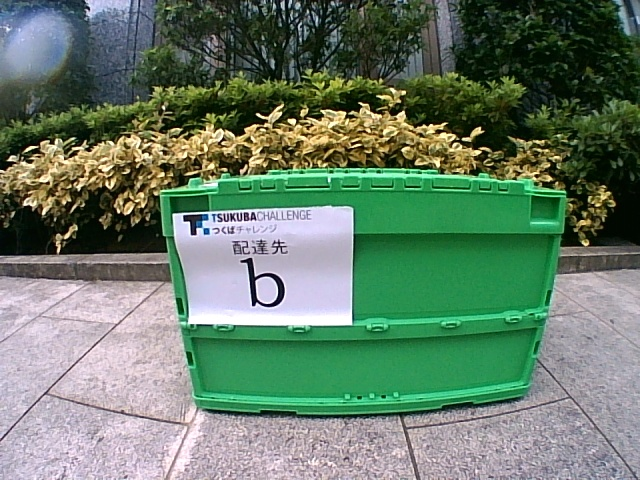blue_box: (159, 169, 565, 416)
tag_a: (190, 213, 352, 324)
